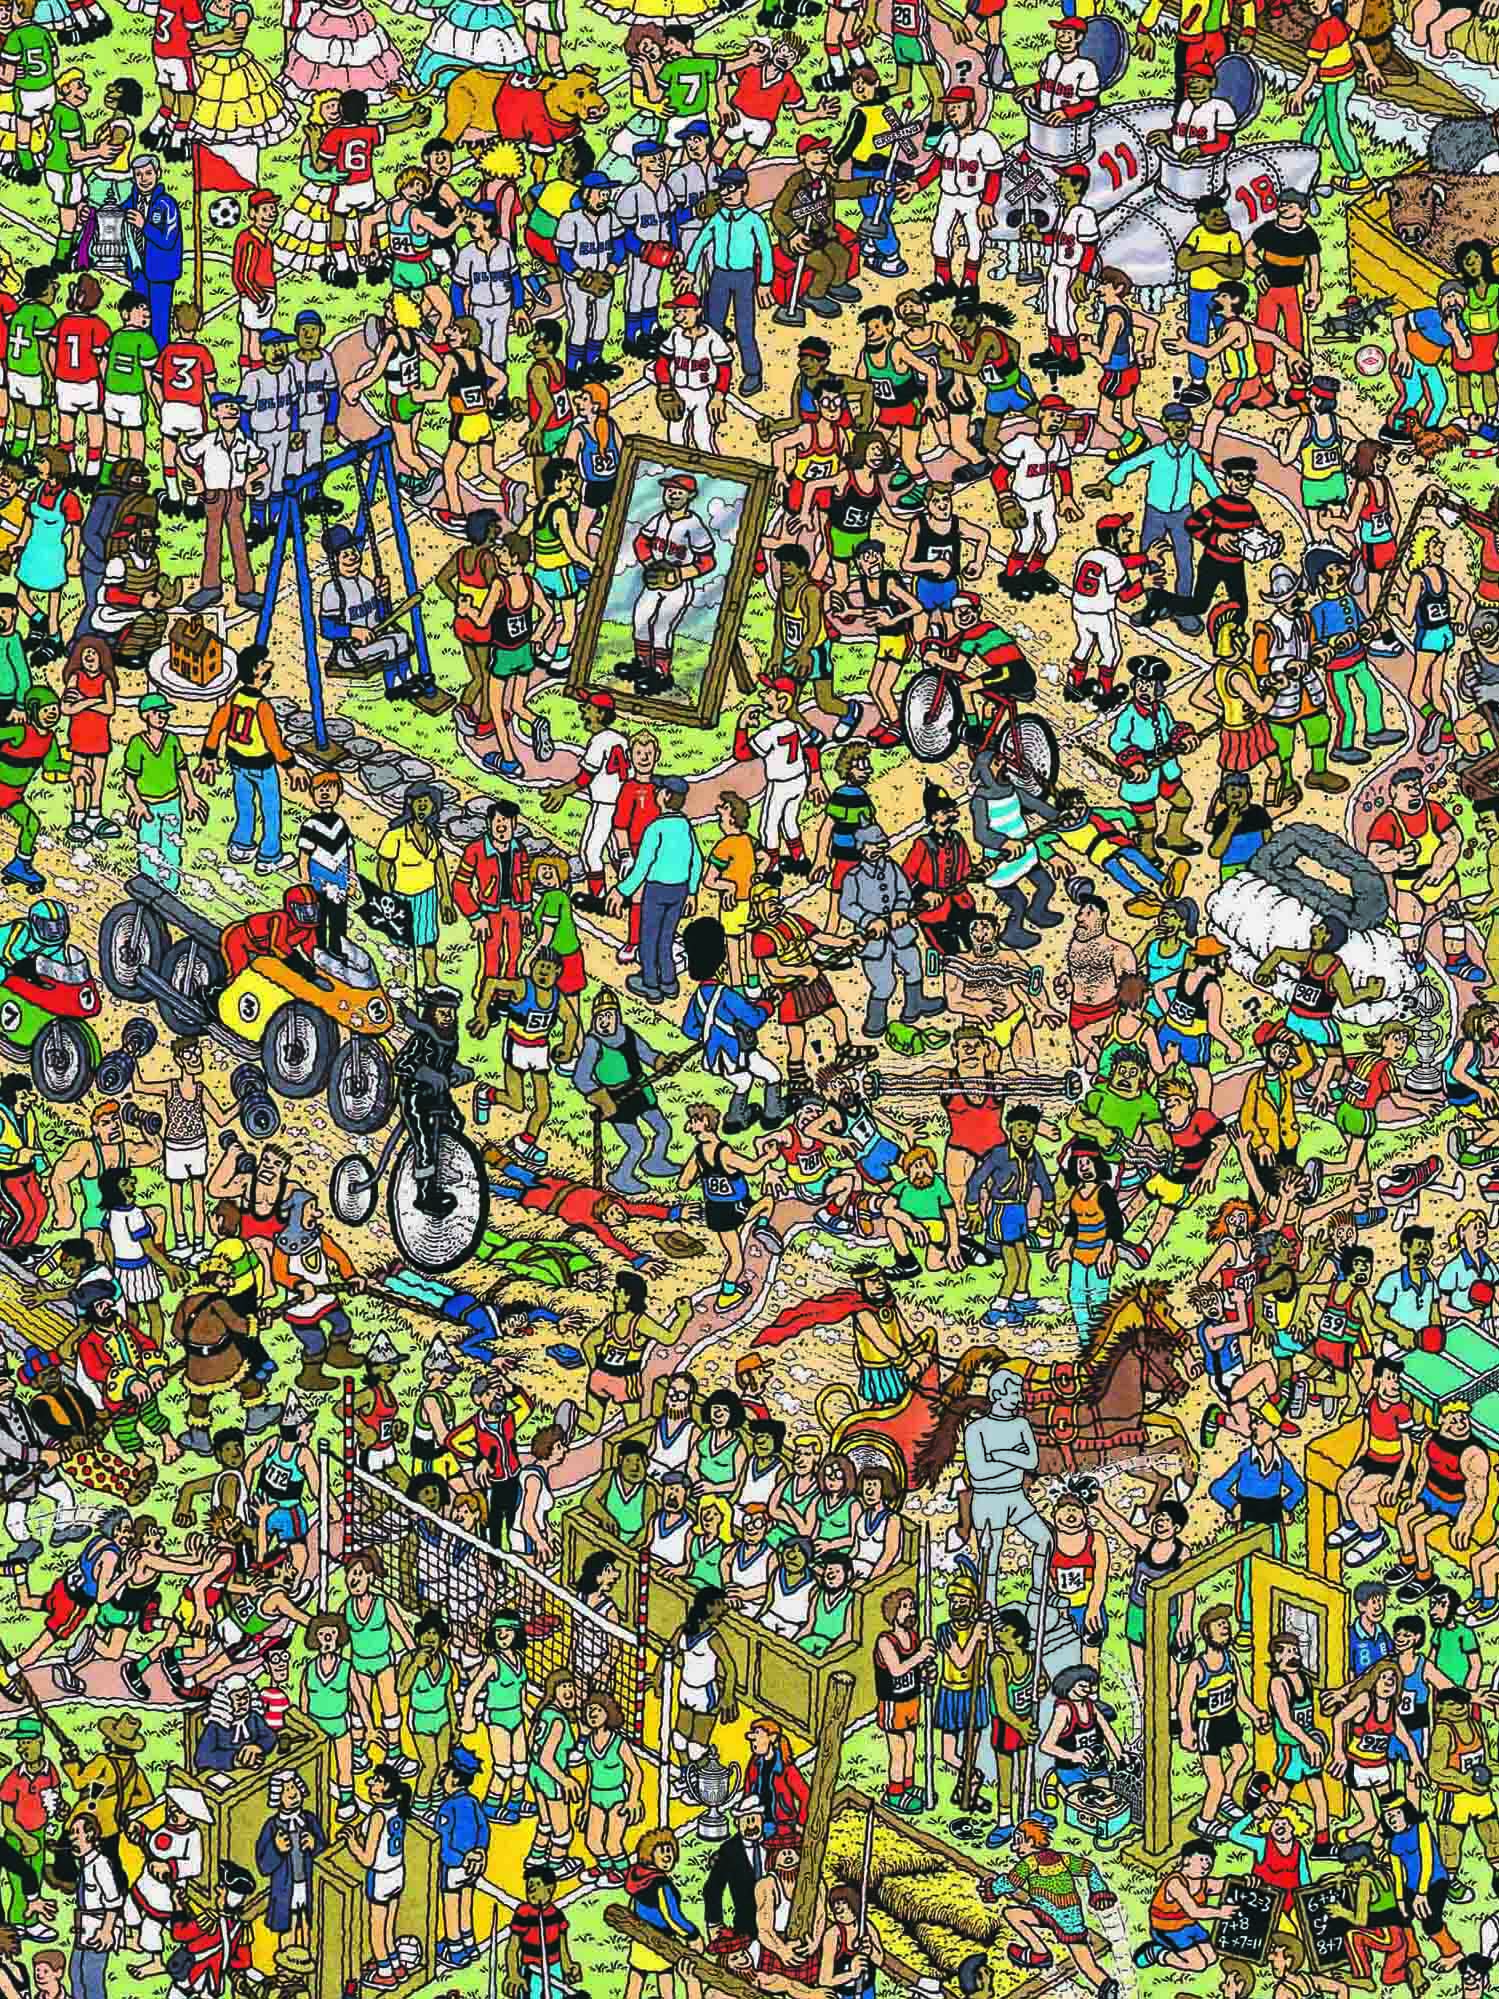waldo: (254, 1631, 298, 1687)
